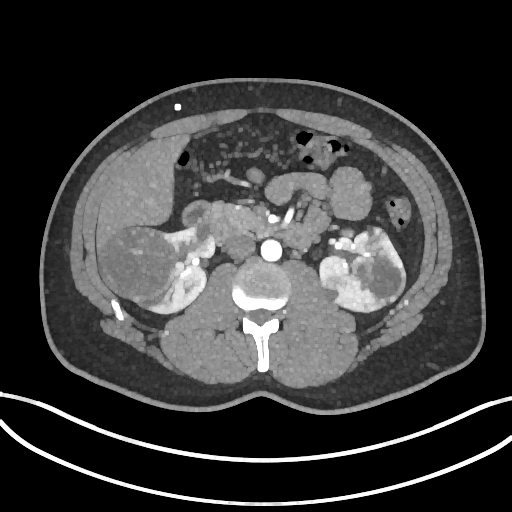Lesion: (96, 226, 179, 304)
